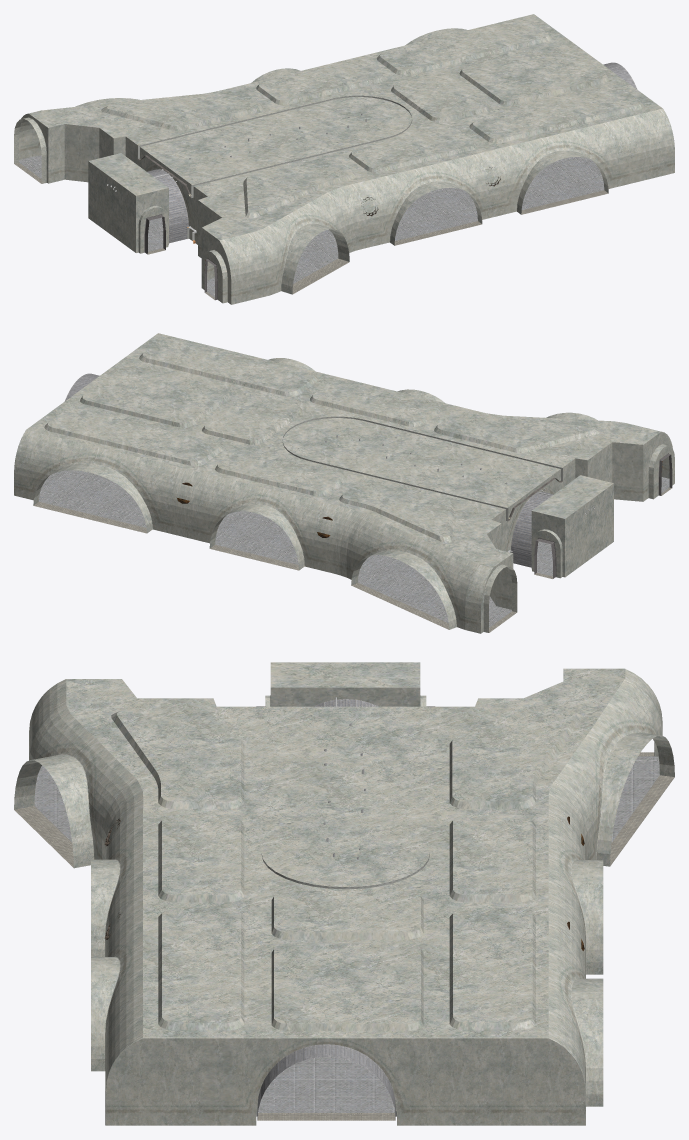
Rendered from thm_all_cantina_r3_cantina_mesh_r3.fbx.
3 renders of one model, top to bottom at view 1: azimuth 30°, elevation 25°; view 2: azimuth 150°, elevation 25°; view 3: azimuth 270°, elevation 25°, orthographic. The views are drawn at different scales.
Parts seen in each view (by area): view 1: mesh_node; view 2: mesh_node; view 3: mesh_node.
Part boxes in pixels (left/top/right/bottom): mesh_node: left=14, top=14, right=674, bottom=304; mesh_node: left=14, top=333, right=674, bottom=633; mesh_node: left=14, top=662, right=674, bottom=1125.
Size of the model in its own units: 46.05 by 5.17 by 33.27.
